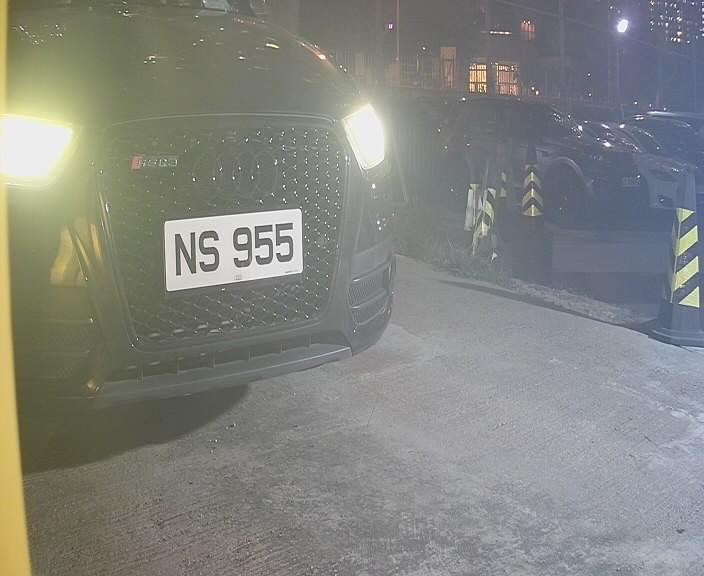Car: (16, 11, 554, 448)
License Plate: (151, 199, 309, 296)
